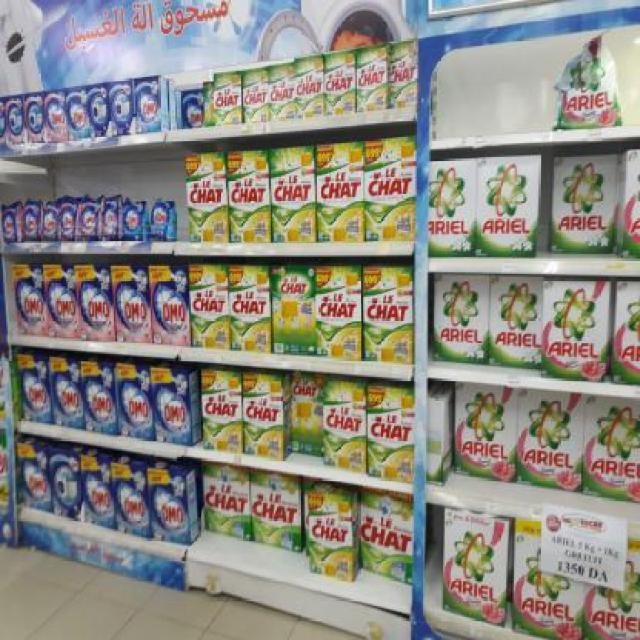Detergent: (511, 513, 586, 636), (441, 512, 512, 622), (542, 267, 609, 382), (552, 154, 618, 254), (474, 151, 538, 254), (516, 391, 579, 495), (581, 393, 640, 497), (456, 376, 516, 478), (558, 38, 620, 127), (584, 537, 638, 638), (489, 277, 542, 369), (429, 157, 477, 258), (435, 272, 487, 362)
